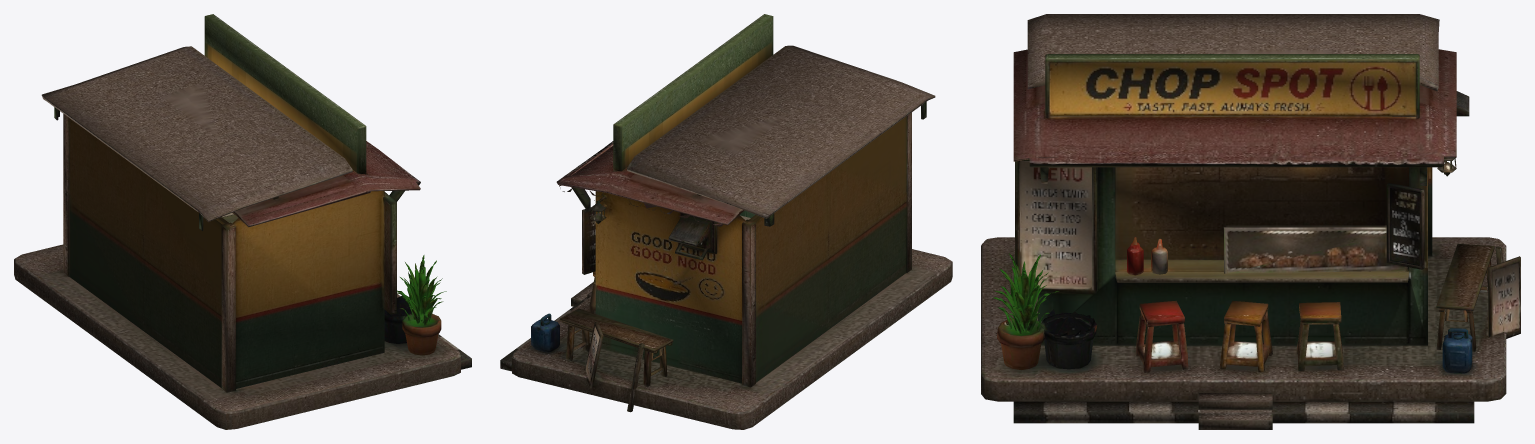
The model's file is food+stall+3d+model.glb.
3 views of the same model, side by side, from view 1: azimuth 30°, elevation 25°; view 2: azimuth 150°, elevation 25°; view 3: azimuth 270°, elevation 25° (orthographic). The views are drawn at different scales.
Visible parts, largest first — view 1: tripo_node_8c4d8581-39d6-4278-b0e4-b32e0a70678b; view 2: tripo_node_8c4d8581-39d6-4278-b0e4-b32e0a70678b; view 3: tripo_node_8c4d8581-39d6-4278-b0e4-b32e0a70678b.
Part boxes in pixels (left/top/right/bottom): tripo_node_8c4d8581-39d6-4278-b0e4-b32e0a70678b: left=14, top=14, right=471, bottom=429; tripo_node_8c4d8581-39d6-4278-b0e4-b32e0a70678b: left=500, top=14, right=952, bottom=429; tripo_node_8c4d8581-39d6-4278-b0e4-b32e0a70678b: left=981, top=14, right=1520, bottom=429.
Size of the model in its own units: 0.709 by 0.6309 by 0.998.
Materials: 1 (1 with a texture image).
